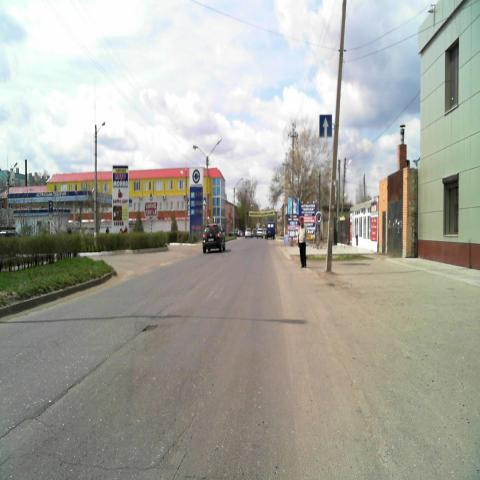5_5: (318, 112, 332, 138)
